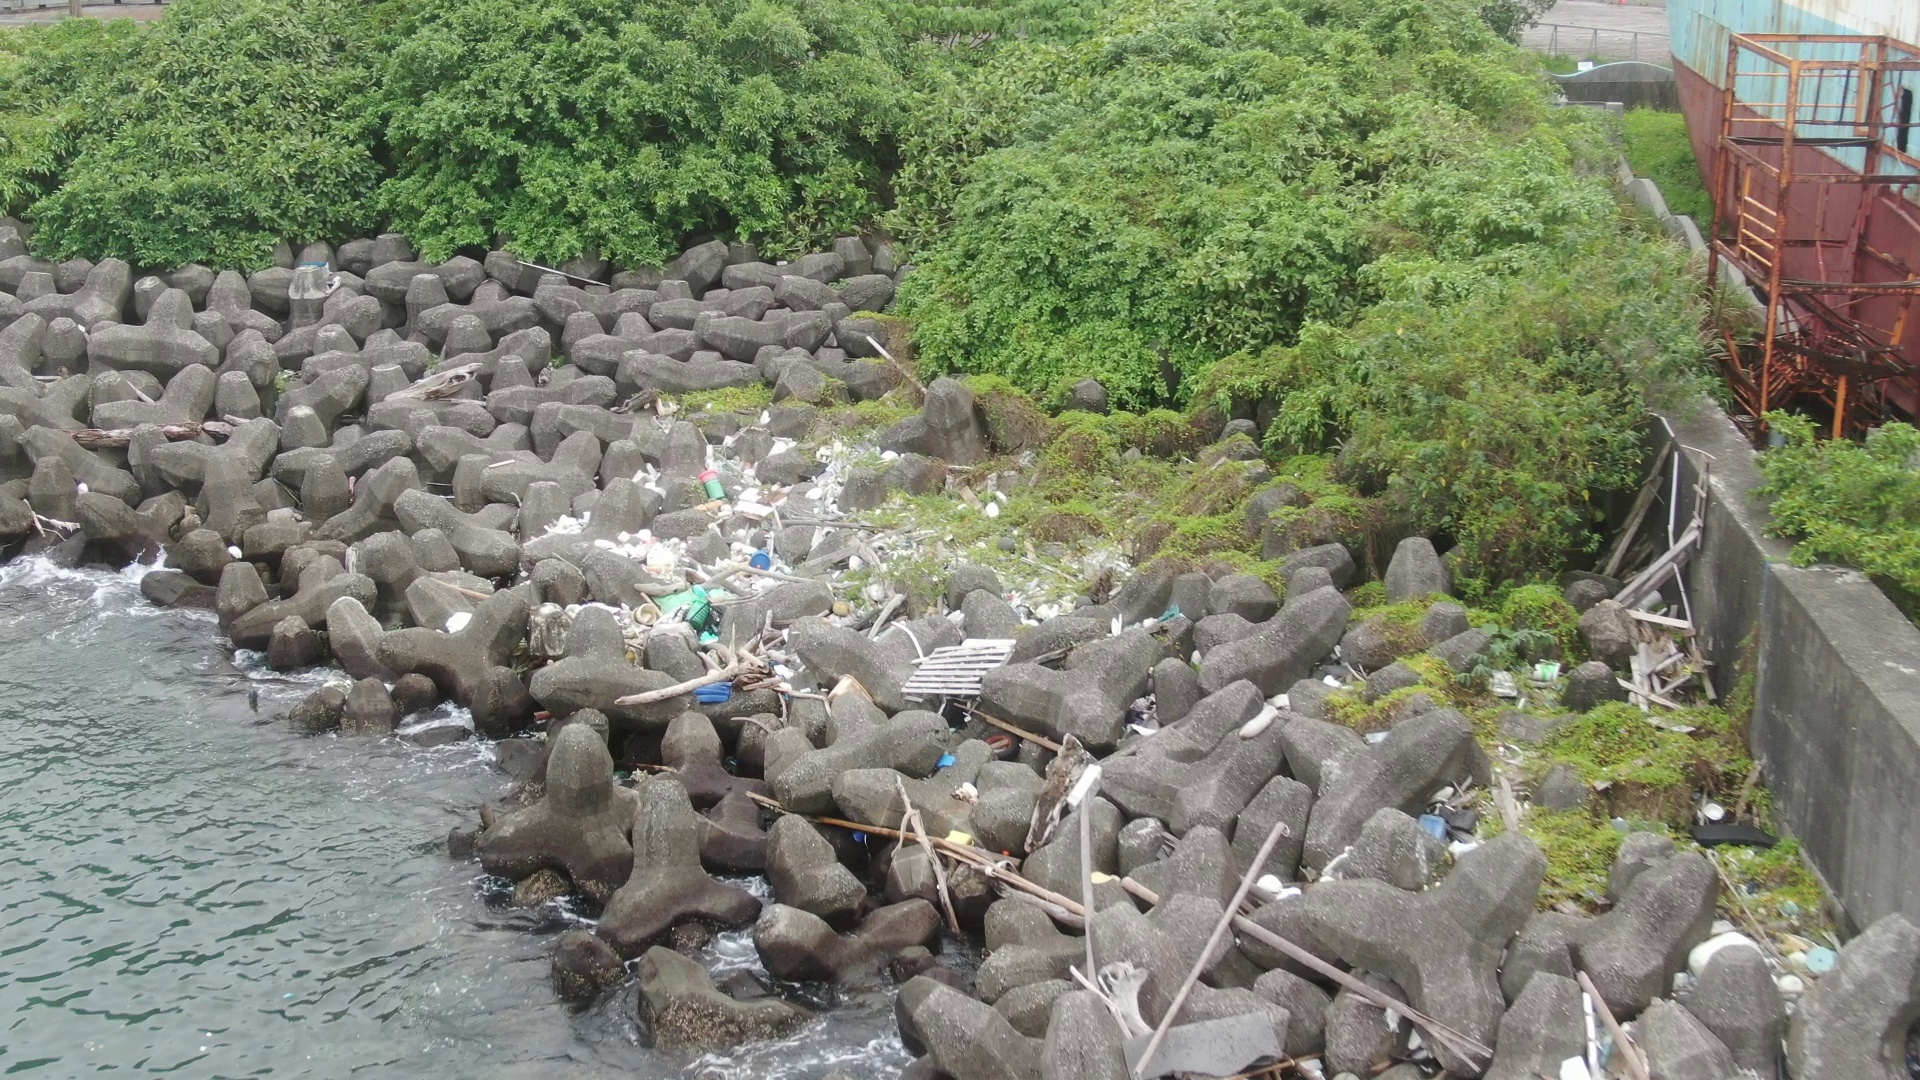garbage: (549, 413, 1062, 702), (853, 729, 1203, 919), (1582, 909, 1880, 1080), (1073, 945, 1362, 1080), (1671, 789, 1787, 856), (1414, 770, 1495, 845), (1100, 592, 1207, 640), (1236, 667, 1295, 749), (1486, 655, 1571, 704)
